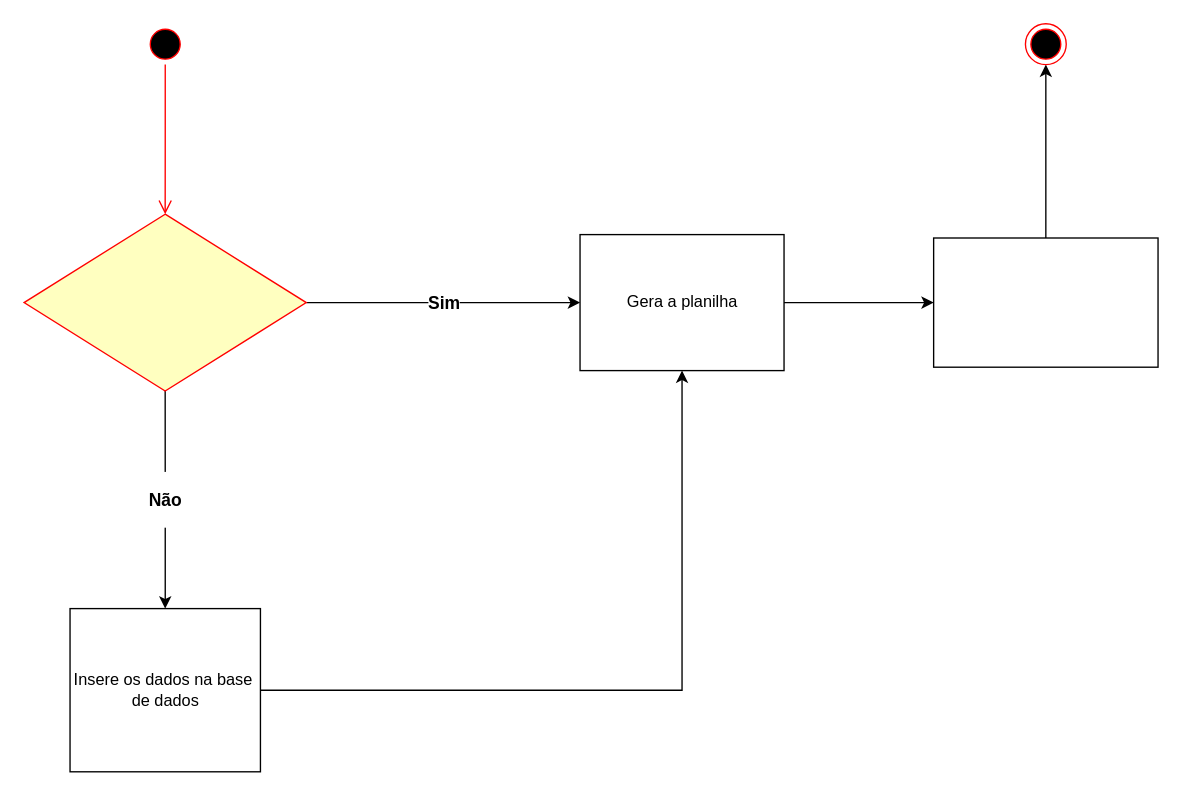
Image size: 1182x796. Some labels were removed from this diagram. Here are the shapes that lost their labels. From the top down, the centre of each, then its label:
point 164,302: Cidade já cadastrada na base de dados?
point 1045,302: Enviar por email
